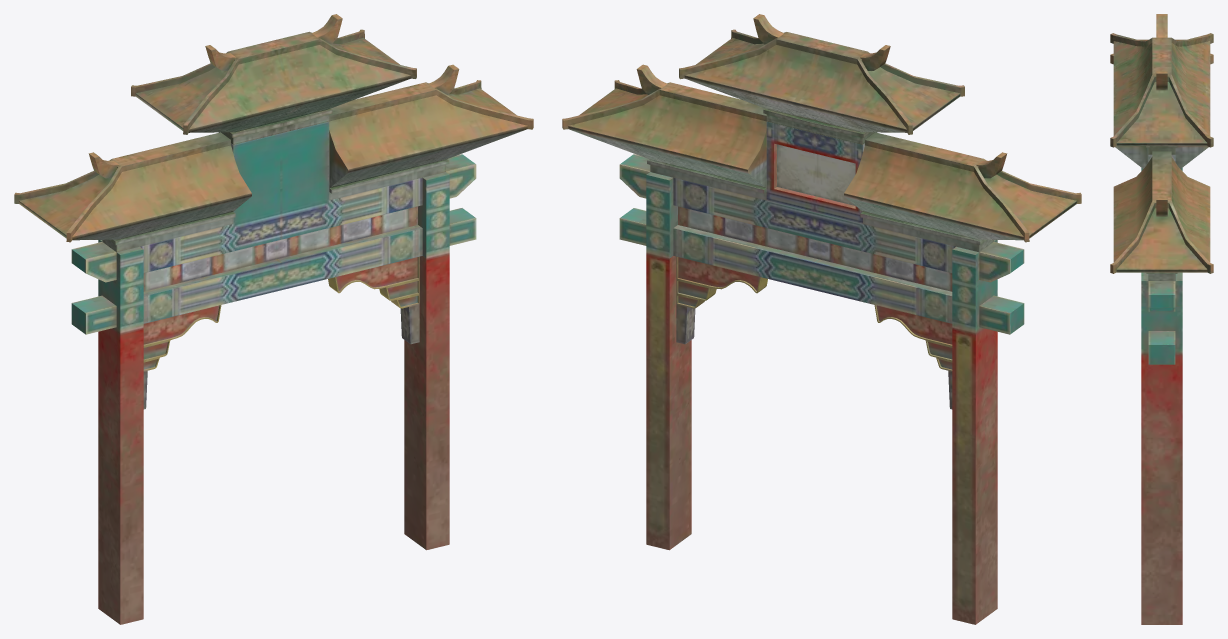
File: qh_paifang.27c7428dc5.glb
The picture shows the model from 3 angles, left to right: view 1: azimuth 30°, elevation 25°; view 2: azimuth 150°, elevation 25°; view 3: azimuth 270°, elevation 25°; orthographic projection. The views are drawn at different scales.
Visible parts, largest first — view 1: piliers, linteau; view 2: piliers, linteau; view 3: linteau, piliers.
Boxes of the visible parts, <box> form: piliers: <box>71,121,476,624</box>; linteau: <box>14,14,533,252</box>; piliers: <box>619,121,1024,624</box>; linteau: <box>562,14,1081,252</box>; linteau: <box>1110,14,1213,280</box>; piliers: <box>1141,154,1182,624</box>.
Size of the model in its own units: 0.8979 by 1 by 0.1846.
2 materials, 2 textured.
